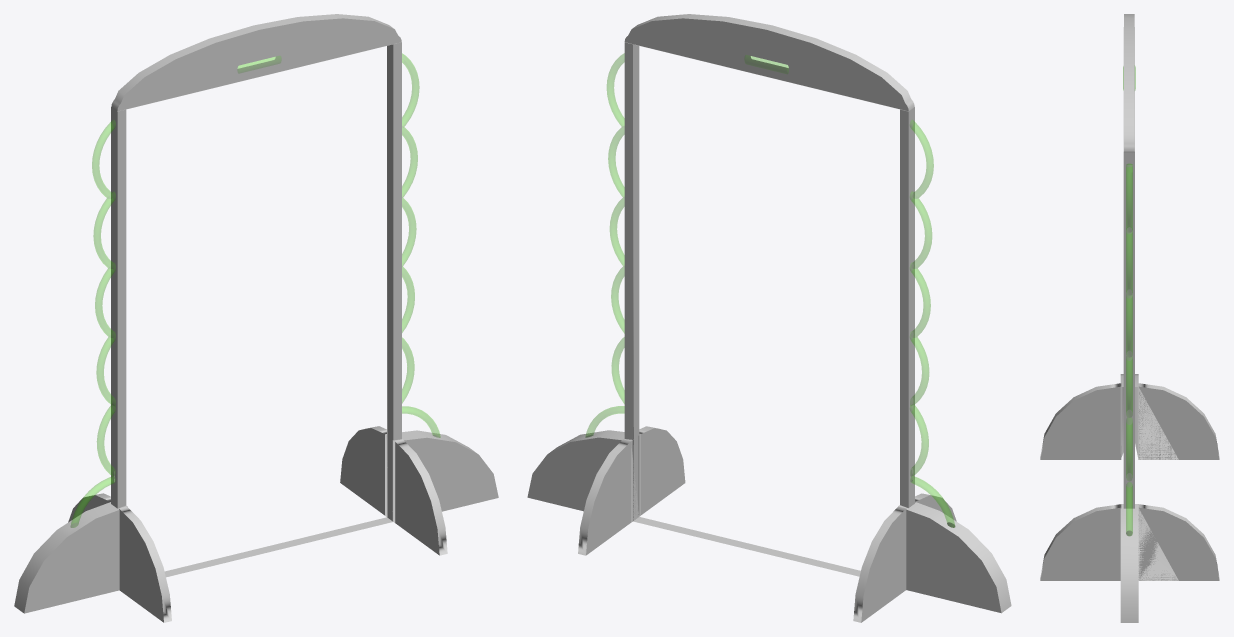
The model's file is door remade 3.fbx.
3 views of the same model, side by side, from view 1: azimuth 30°, elevation 25°; view 2: azimuth 150°, elevation 25°; view 3: azimuth 270°, elevation 25° (orthographic). The views are drawn at different scales.
Visible parts, largest first — view 1: polySurface8, pCylinder5, pCylinder6; view 2: polySurface8, pCylinder5, pCylinder6; view 3: pCylinder6, pCylinder5, polySurface8.
Part boxes in pixels (left/top/right/bottom): polySurface8: left=14, top=14, right=498, bottom=613; pCylinder5: left=340, top=426, right=447, bottom=555; pCylinder6: left=68, top=493, right=171, bottom=622; polySurface8: left=527, top=14, right=1011, bottom=613; pCylinder5: left=578, top=426, right=685, bottom=555; pCylinder6: left=853, top=493, right=956, bottom=622; pCylinder6: left=1040, top=383, right=1219, bottom=459; pCylinder5: left=1040, top=504, right=1219, bottom=580; polySurface8: left=1120, top=14, right=1138, bottom=622.
Size of the model in its own units: 42.64 by 45.04 by 15.5.
